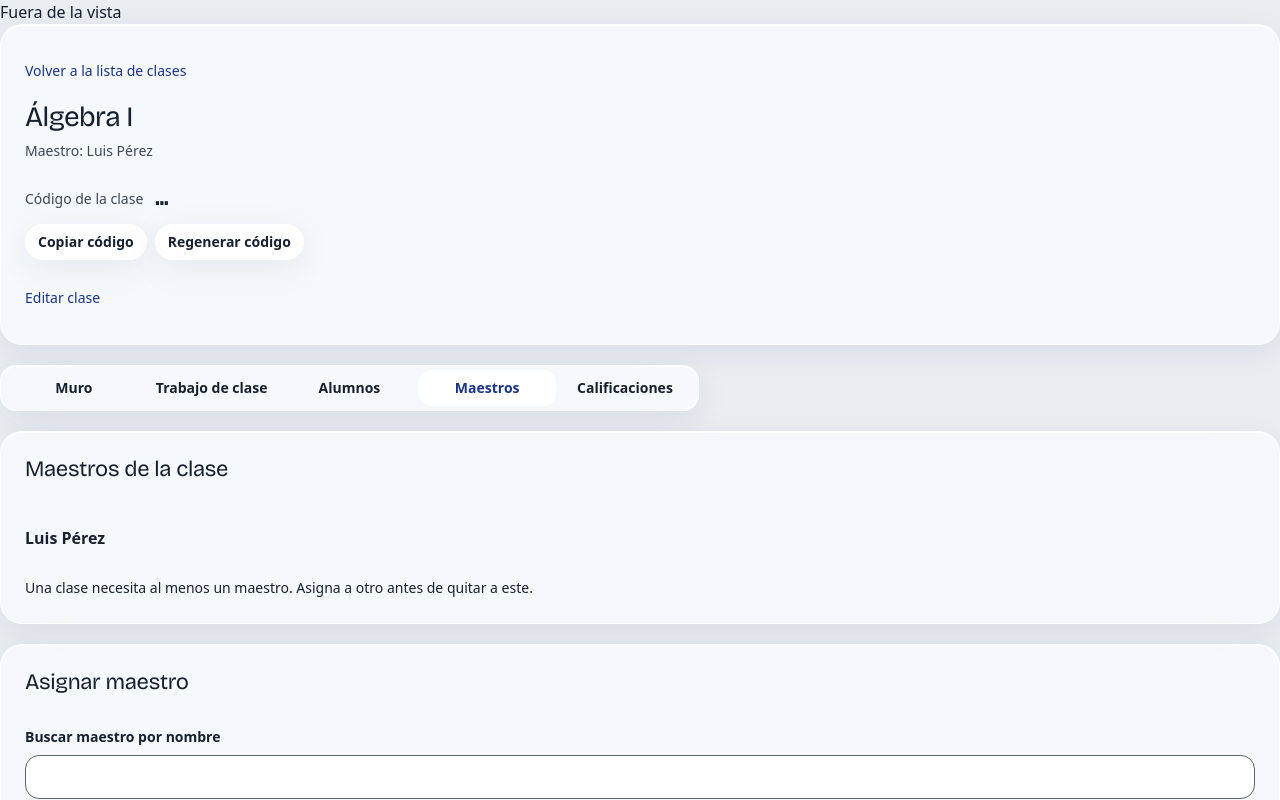
Test case: ataque CLASES-02c r3: ClaseLayout y «Maestros de la clase» cuando la recarga falla › si la persona puso el foco en otro lado antes de que falle la recarga, el foco no se mueve
Check: the heading "Maestros de la clase" is shown, box left=25, top=456, right=228, bottom=482
Type "Mari" into the field labelled "Buscar maestro por nombre" at (640, 777), box left=25, top=755, right=1255, bottom=799
(page scrolled)
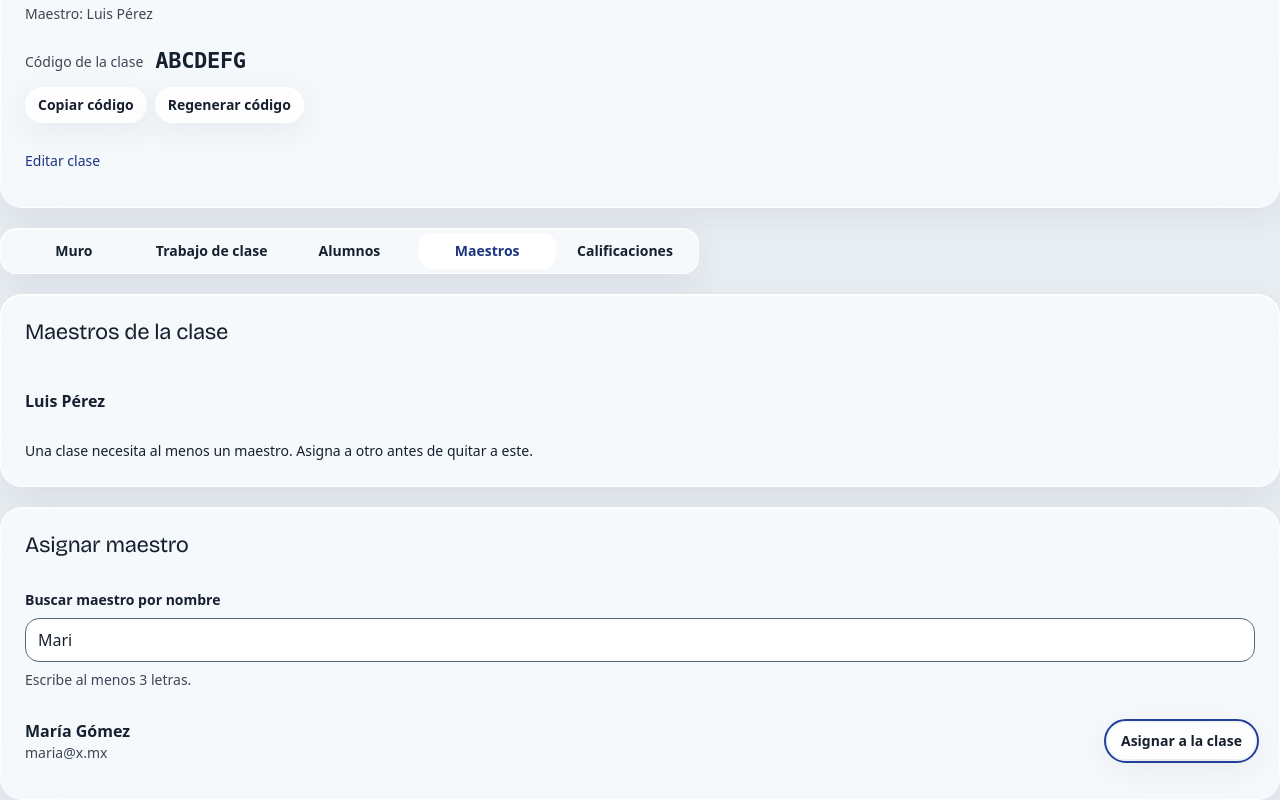
Click the button named "Asignar a la clase María Gómez" at (1182, 741), box left=1108, top=723, right=1255, bottom=759
(page scrolled)
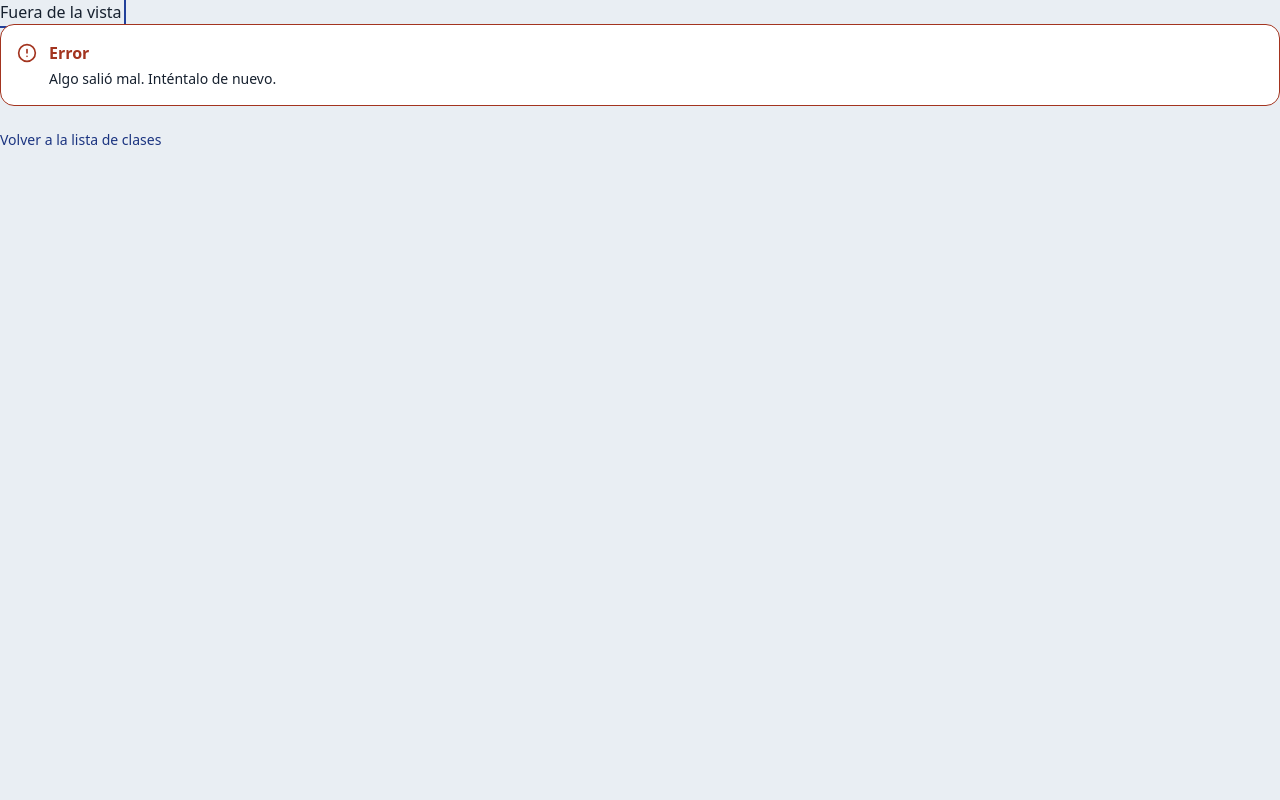
Check: the text "Algo salió mal. Inténtalo de nuevo." is shown, box left=49, top=69, right=276, bottom=89
